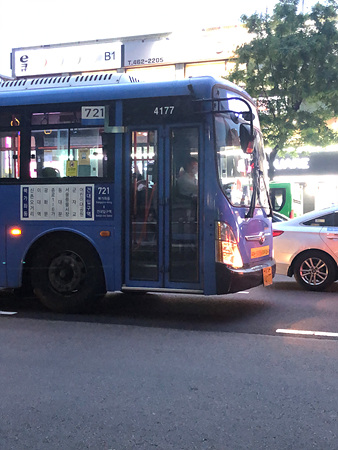entrance: (125, 120, 208, 292)
